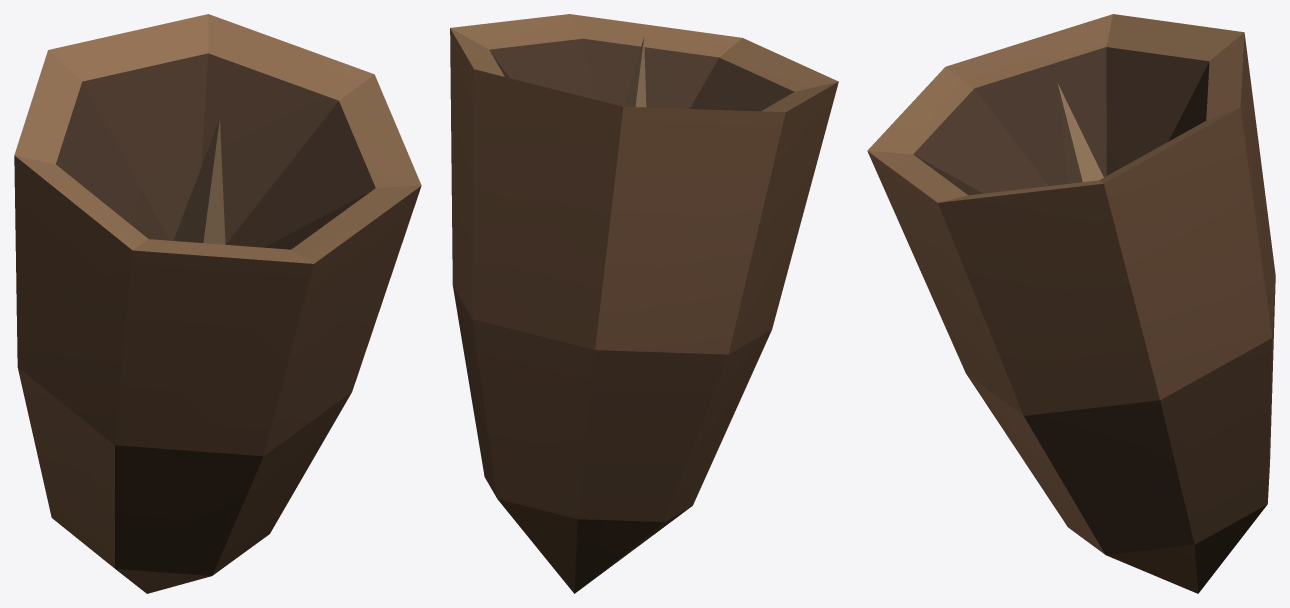
Rendered from custom-semente-jequitiba.glb.
The picture shows the model from 3 angles, left to right: view 1: azimuth 30°, elevation 25°; view 2: azimuth 150°, elevation 25°; view 3: azimuth 270°, elevation 25°; orthographic projection. The views are drawn at different scales.
Parts seen in each view (by area): view 1: semente-jequitiba; view 2: semente-jequitiba; view 3: semente-jequitiba.
Boxes of the visible parts, x1,y1,x2,y2 form: semente-jequitiba: (14, 14, 421, 593); semente-jequitiba: (450, 14, 838, 593); semente-jequitiba: (867, 14, 1275, 593).
Size of the model in its own units: 0.2729 by 0.3996 by 0.281.
